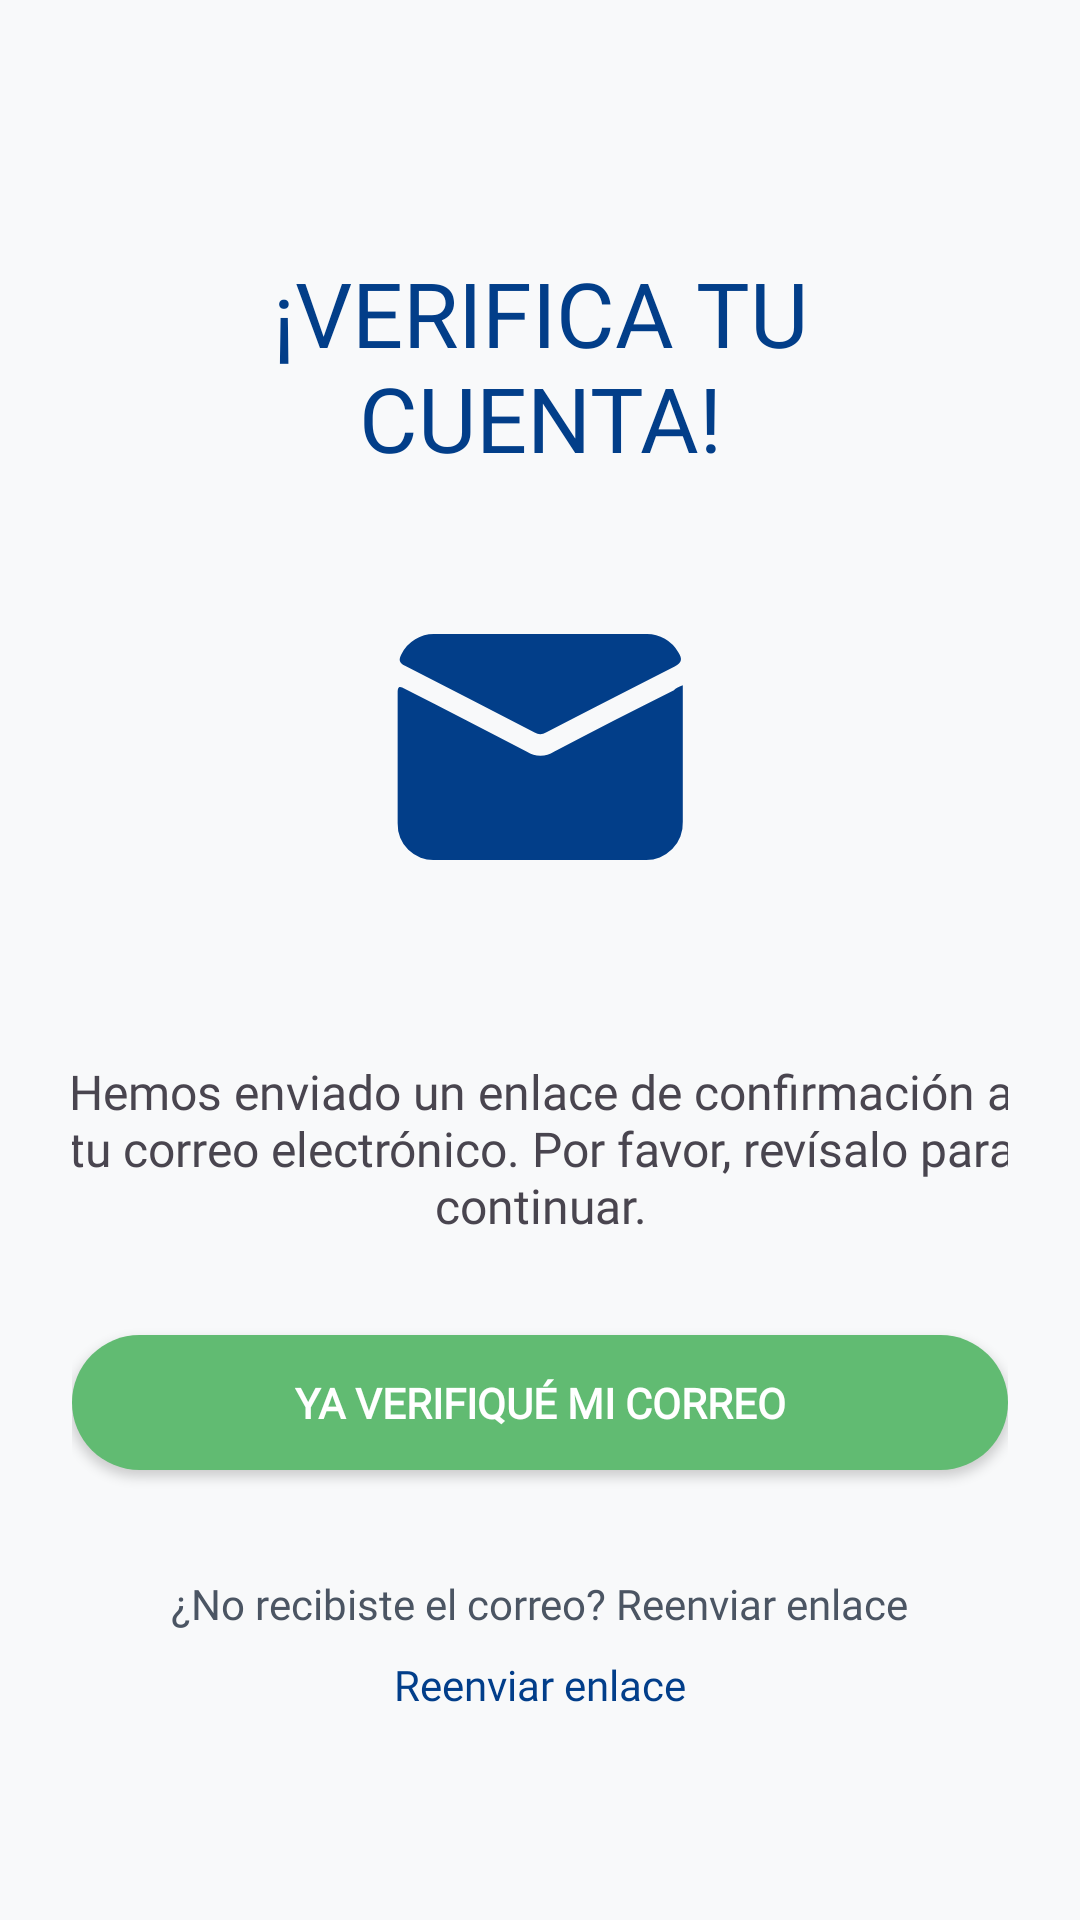

Screen size 1080x1920. Icon name, then its center in pixels as [x,y]:
email: [540,747]
